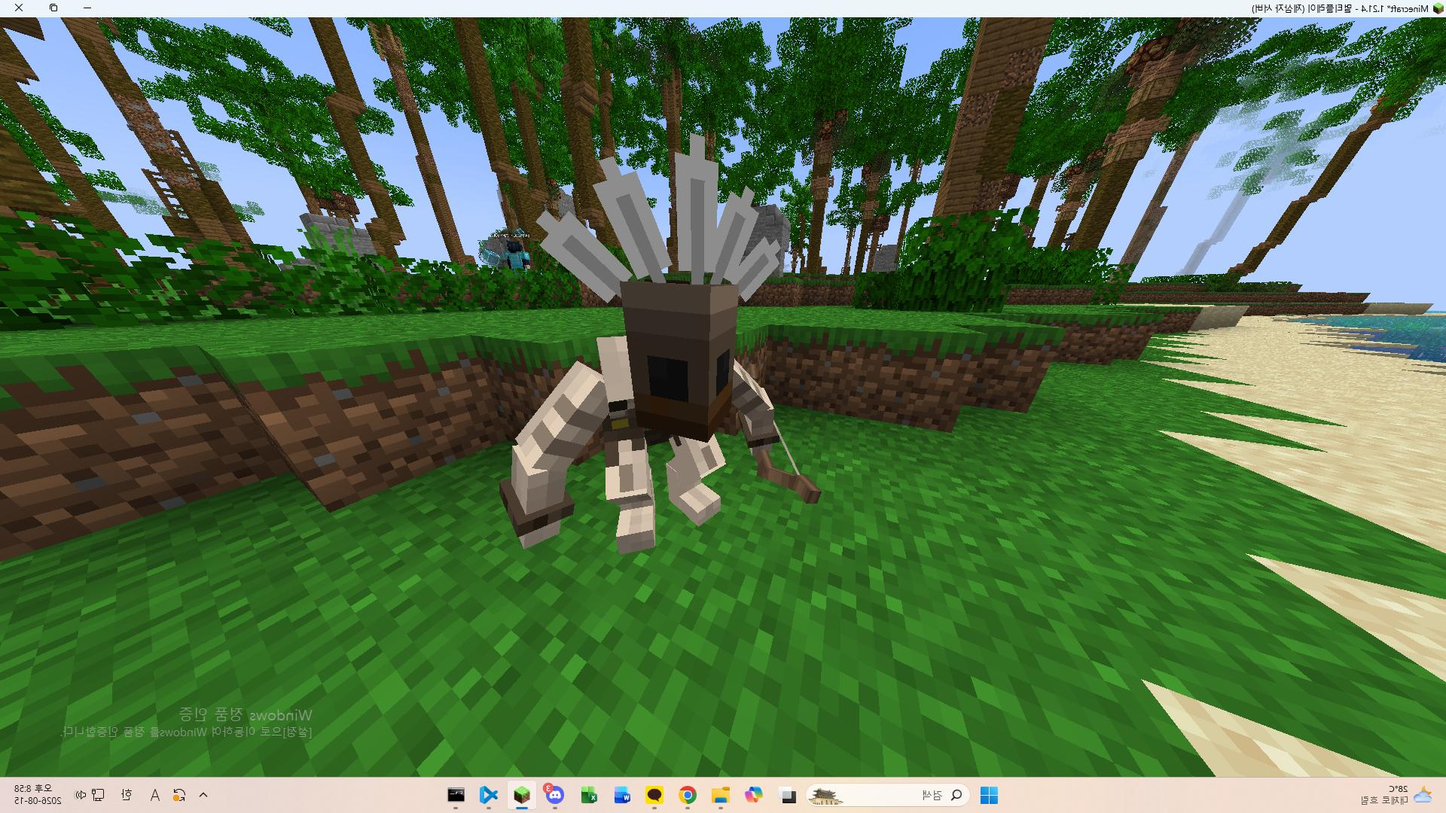bow_indian: (453, 153, 846, 593)
